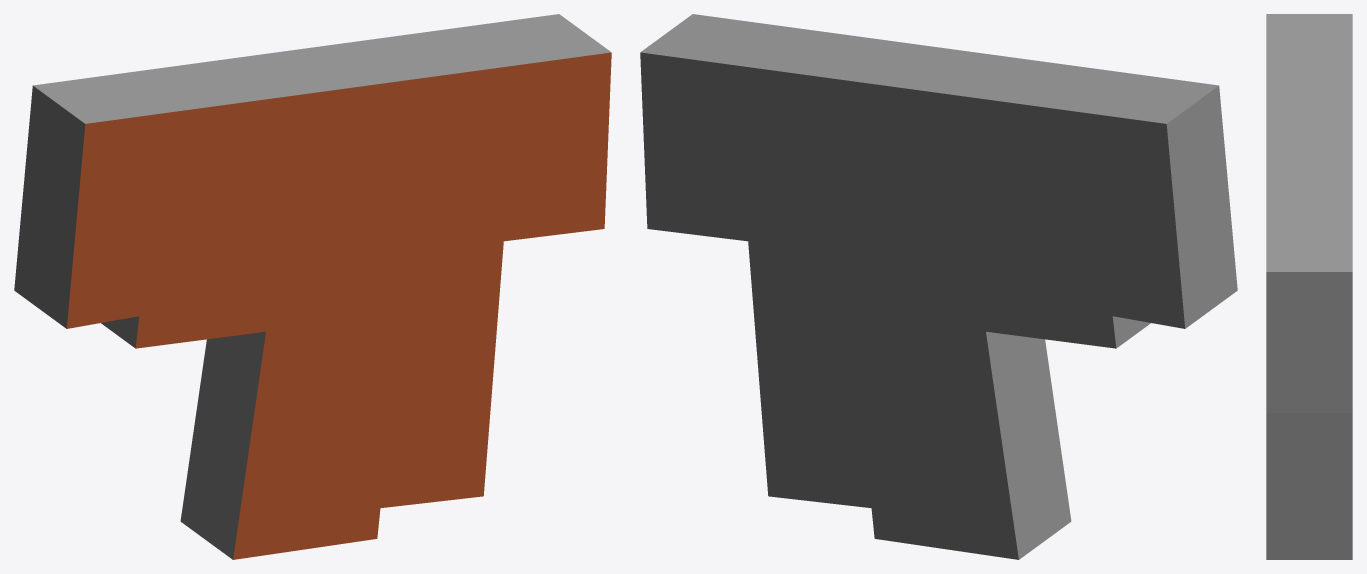
File: construction_6870_assumed_A_Casa_h6m.obj
3 views of the same model, side by side, from view 1: azimuth 30°, elevation 25°; view 2: azimuth 150°, elevation 25°; view 3: azimuth 270°, elevation 25° (orthographic). The views are drawn at different scales.
Parts seen in each view (by area): view 1: construction_6870_assumed_A_Casa; view 2: construction_6870_assumed_A_Casa; view 3: construction_6870_assumed_A_Casa.
Part boxes in pixels (bbox=[...]): construction_6870_assumed_A_Casa: bbox=[14, 14, 611, 559]; construction_6870_assumed_A_Casa: bbox=[640, 14, 1237, 559]; construction_6870_assumed_A_Casa: bbox=[1266, 14, 1352, 559].
Size of the model in its own units: 35.94 by 30.64 by 6.
